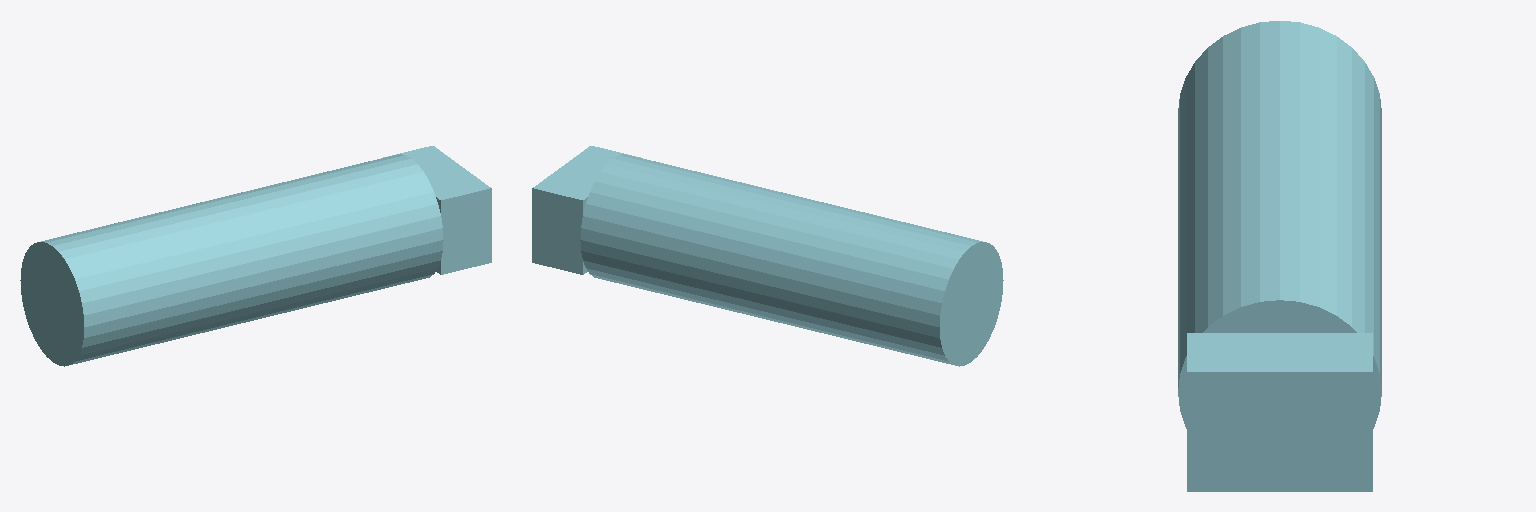
The robot description file, URDF, robot "cylinder_hammer_v1014":
<?xml version="1.0"?>
<robot name="cylinder_hammer_v1014">

  <link name="cylinder_hammer_v1014">
    <!-- Handle -->
    <visual>
      <origin xyz="0 0 0" rpy="0 1.5707963267948966 0"/>
      <geometry>
        <cylinder length="0.1883947635851404" radius="0.02904065355073445"/>
      </geometry>
      <material name="material">
        <color rgba="0.639 0.847 0.882 1.0"/>
      </material>
    </visual>
    <collision>
      <origin xyz="0 0 0" rpy="0 1.5707963267948966 0"/>
      <geometry>
        <cylinder length="0.1883947635851404" radius="0.02904065355073445"/>
      </geometry>
    </collision>

    <!-- Head -->
    <visual>
      <origin xyz="0.10748953814421056 0 0" rpy="0 0 0"/>
      <geometry>
        <box size="0.026584312703280724 0.05314374335746303 0.03740388240012152"/>
      </geometry>
      <material name="material">
        <color rgba="0.639 0.847 0.882 1.0"/>
      </material>
    </visual>
    <collision>
      <origin xyz="0.10748953814421056 0 0" rpy="0 0 0"/>
      <geometry>
        <box size="0.026584312703280724 0.05314374335746303 0.03740388240012152"/>
      </geometry>
    </collision>

    <inertial>
      <density value="400.0"/>
    </inertial>
  </link>

</robot>

--- Facts derived from the render (not from the file) ---
The picture shows the robot from 3 angles, left to right: view 1: azimuth 30°, elevation 25°; view 2: azimuth 150°, elevation 25°; view 3: azimuth 270°, elevation 25°; orthographic projection.
Model cylinder_hammer_v1014 with 1 links and 0 joints (none), rooted at cylinder_hammer_v1014, posed all joints at 0.
Visible links, largest first — view 1: cylinder_hammer_v1014; view 2: cylinder_hammer_v1014; view 3: cylinder_hammer_v1014.
Link boxes in pixels (<box>): cylinder_hammer_v1014: <box>20,146,491,366</box>; cylinder_hammer_v1014: <box>532,146,1003,366</box>; cylinder_hammer_v1014: <box>1178,21,1381,491</box>.
Bounding box of the posed robot: 0.215 × 0.0581 × 0.0581 m (x, y, z).
Geometry: primitives only (box / cylinder / sphere), no mesh files.
